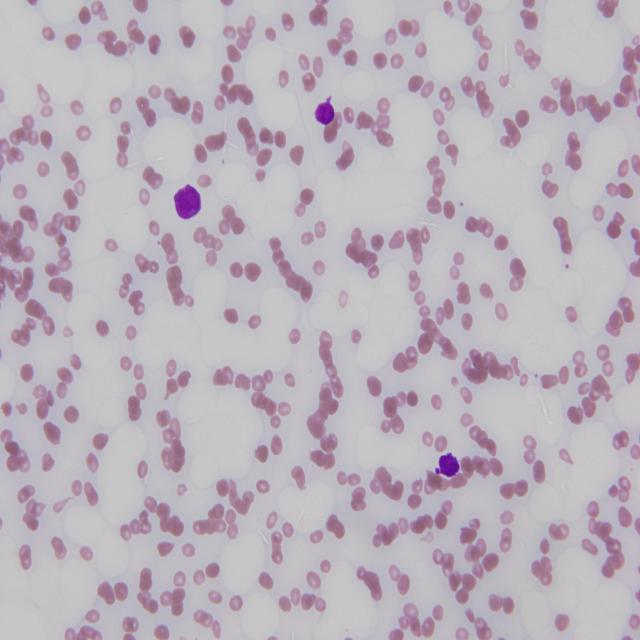cell: (174, 185, 201, 218), (436, 453, 460, 478), (315, 97, 335, 126)
